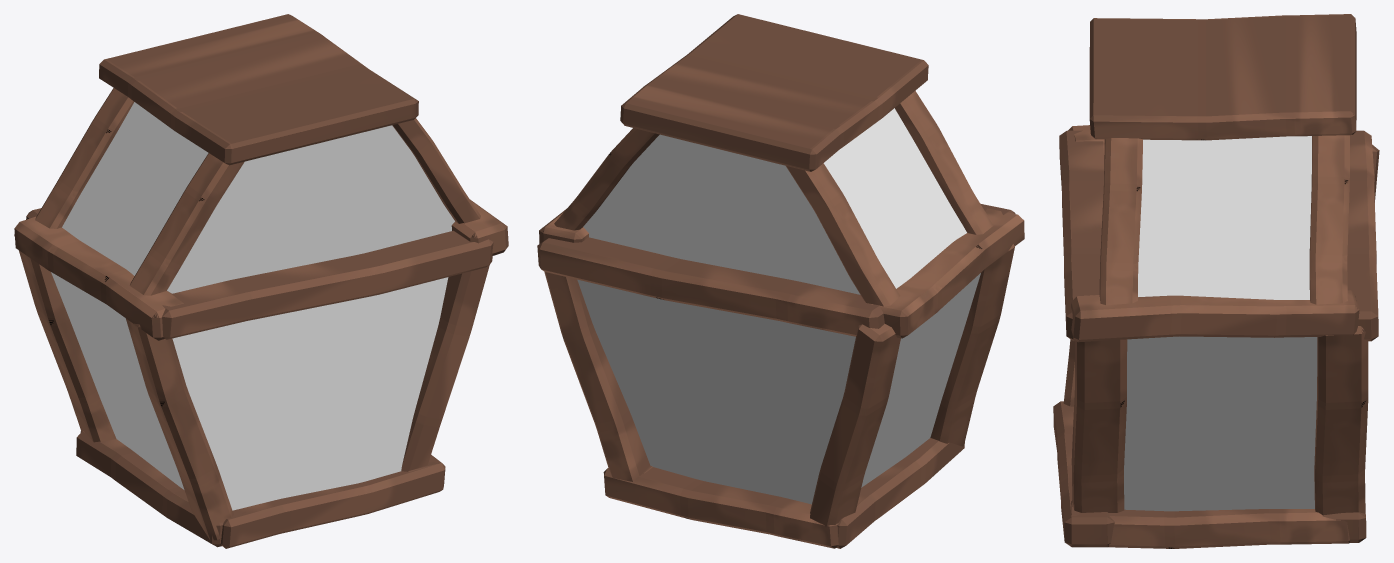
File: cottage-ceiling-lamp.fbx
3 renders of one model, left to right at view 1: azimuth 30°, elevation 25°; view 2: azimuth 150°, elevation 25°; view 3: azimuth 270°, elevation 25°, orthographic. The views are drawn at different scales.
Visible parts, largest first — view 1: Plane.042, Cube.415, Plane.048, Cube.414, Plane.046, Plane.044, Cube.400, Cube.412, Cube.407, Cube.399, Cube.418, Cube.406 (+4 smaller); view 2: Plane.043, Cube.415, Plane.049, Cube.413, Plane.046, Cube.406, Plane.044, Cube.411, Cube.405, Cube.407, Cube.400, Cube.419 (+4 smaller); view 3: Plane.045, Cube.415, Plane.047, Cube.409, Cube.405, Cube.399, Cube.408, Cube.414, Cube.417, Cube.416, Cube.413, Cube.412 (+2 smaller).
Part boxes in pixels (x1,y1,x2,y2): Plane.042: (172,277,448,510); Cube.415: (99,14,418,165); Plane.048: (167,125,454,293); Cube.414: (162,230,493,339); Plane.046: (62,102,208,275); Plane.044: (51,272,184,489); Cube.400: (126,318,233,540); Cube.412: (220,454,445,548); Cube.407: (14,216,183,340); Cube.399: (401,265,489,471); Cube.418: (129,153,244,295); Cube.406: (14,234,116,442); Plane.043: (577,279,855,504); Cube.415: (620,14,928,171); Plane.049: (583,134,860,294); Cube.413: (537,237,884,336); Plane.046: (823,108,966,288); Cube.406: (810,324,900,528); Plane.044: (861,273,980,487); Cube.411: (603,467,838,548); Cube.405: (544,272,650,491); Cube.407: (871,208,1024,338); Cube.400: (930,243,1014,446); Cube.419: (786,163,900,306); Plane.045: (1124,336,1317,511); Cube.415: (1089,14,1356,140); Plane.047: (1138,136,1311,299); Cube.409: (1071,290,1359,342); Cube.405: (1314,326,1368,515); Cube.399: (1071,339,1127,512); Cube.408: (1071,501,1350,548); Cube.414: (1059,130,1104,341); Cube.417: (1309,135,1349,304); Cube.416: (1099,138,1142,305); Cube.413: (1347,130,1378,341); Cube.412: (1053,401,1114,547).
Size of the model in its own units: 32.14 by 32.56 by 22.44.
